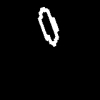chain: (38, 7, 58, 45)
